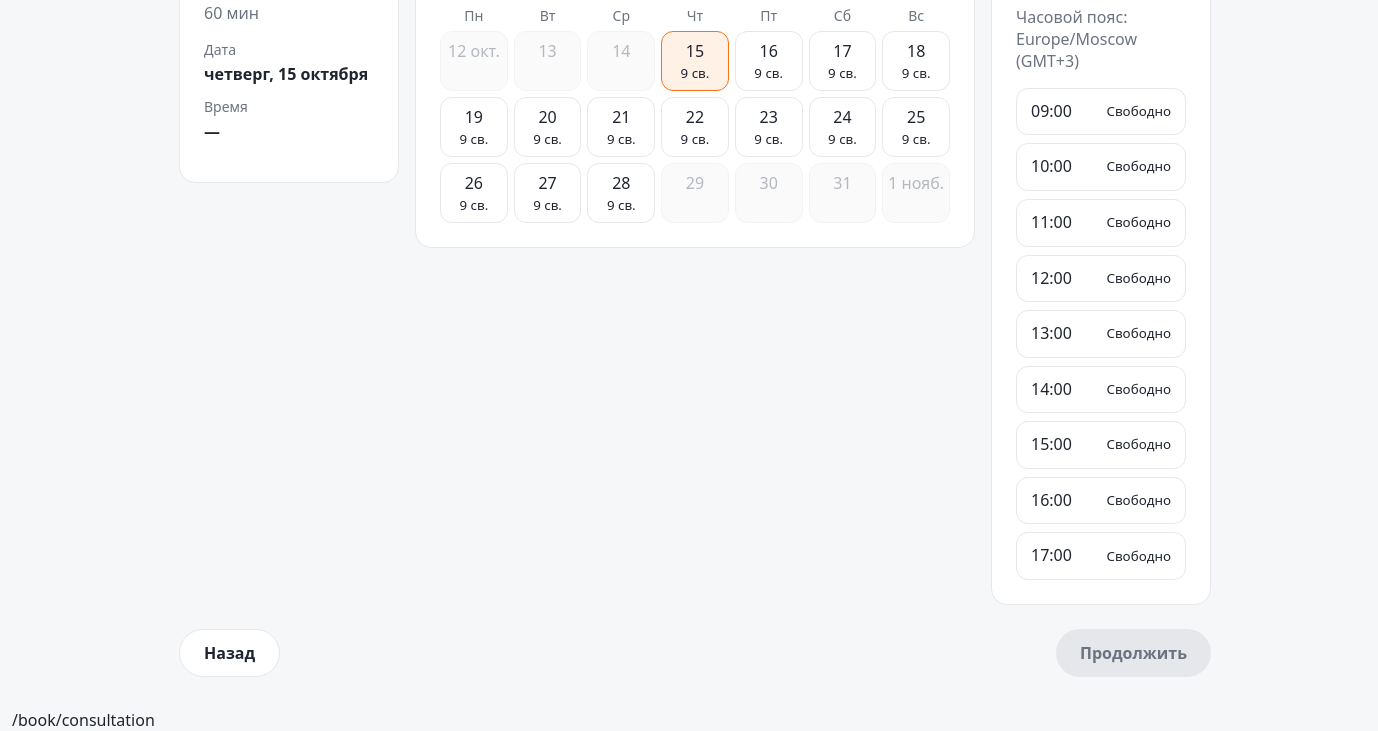
slot picker › goes back to the catalog
The width and height of the screenshot is (1378, 731).
(page scrolled)
Step 1. Click the link "Назад" → coordinates (230, 653), box [179,629,280,677]
(page scrolled)
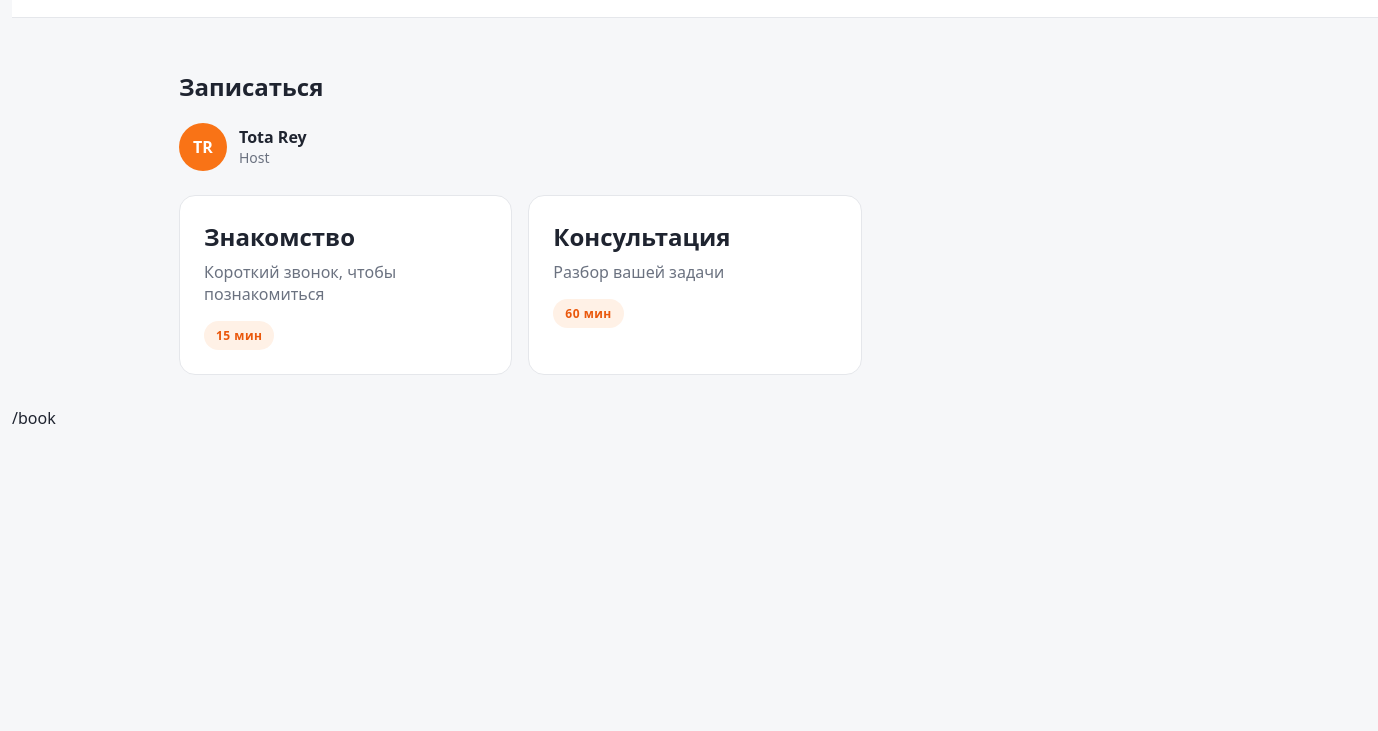
Result: the text with test id "location" reads "/book" at [12,407,56,429]
